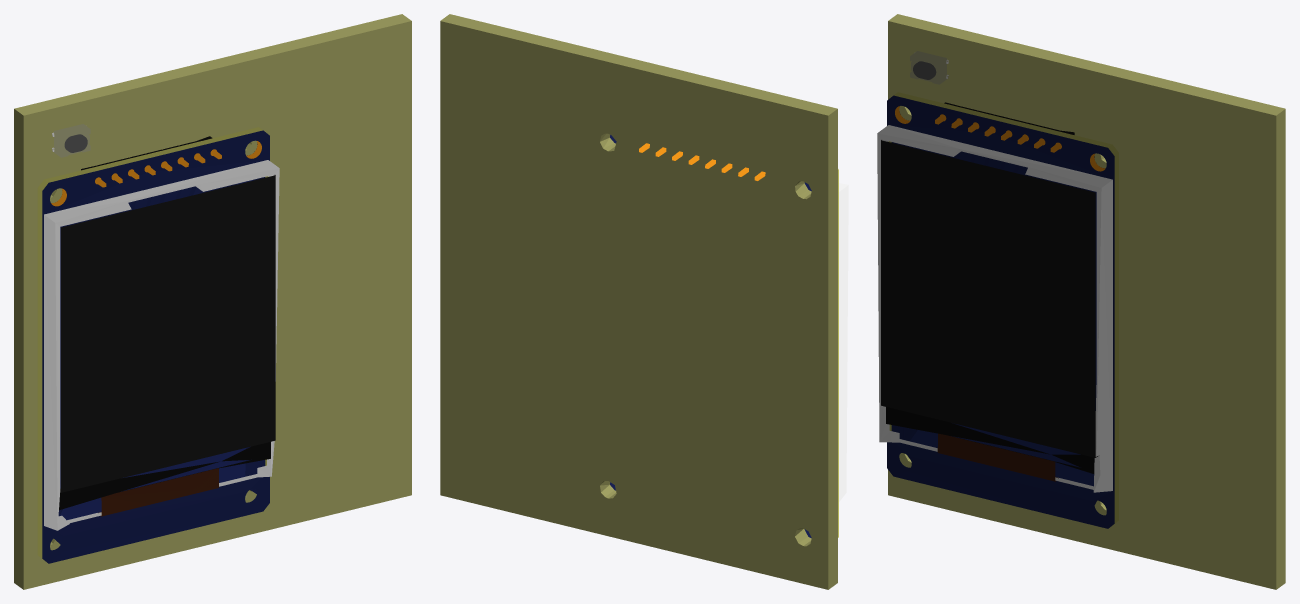
The model's file is OBJ_Mini MC server pcb.obj.
3 views of the same model, side by side, from view 1: azimuth 30°, elevation 25°; view 2: azimuth 150°, elevation 25°; view 3: azimuth 330°, elevation 25° (orthographic).
Size of the model in its own units: 235 by 274 by 40.98.
